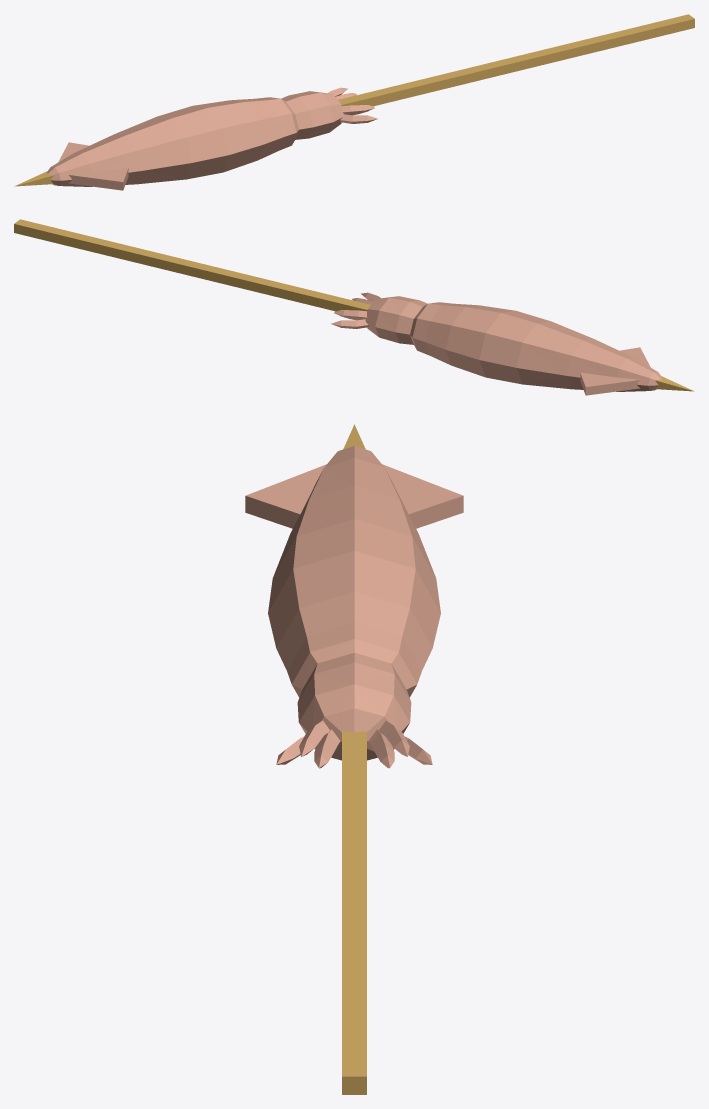
Rendered from SM_Cook_SkewerSquid_Raw_01.fbx.
The picture shows the model from 3 angles, top to bottom: view 1: azimuth 30°, elevation 25°; view 2: azimuth 150°, elevation 25°; view 3: azimuth 270°, elevation 25°; orthographic projection. The views are drawn at different scales.
Visible parts, largest first — view 1: SM_Cook_SkewerSquid_Raw_01; view 2: SM_Cook_SkewerSquid_Raw_01; view 3: SM_Cook_SkewerSquid_Raw_01.
Part boxes in pixels (x1,y1,x2,y2): SM_Cook_SkewerSquid_Raw_01: (14, 14, 694, 190); SM_Cook_SkewerSquid_Raw_01: (14, 219, 694, 395); SM_Cook_SkewerSquid_Raw_01: (245, 424, 463, 1094).
Size of the model in its own units: 0.25 by 0.0221 by 0.0348.
Materials: 1 (1 with a texture image).
